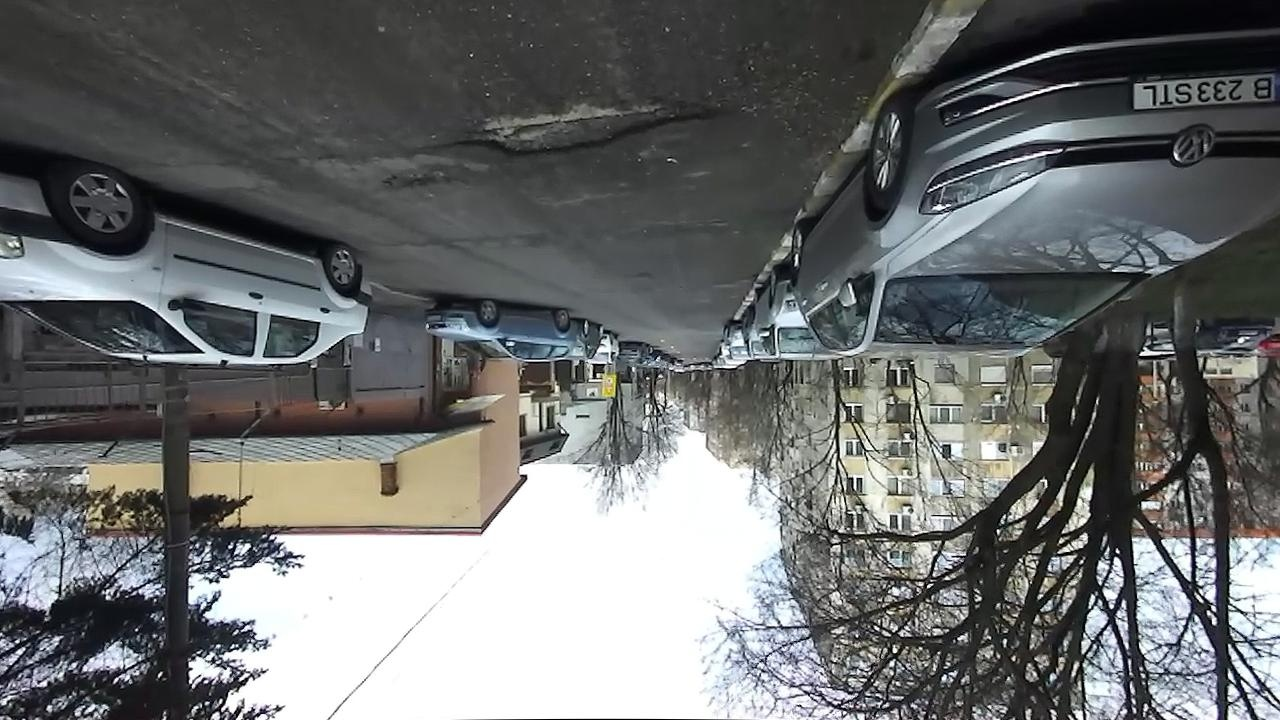pothole: (437, 91, 730, 160), (373, 163, 470, 197)
